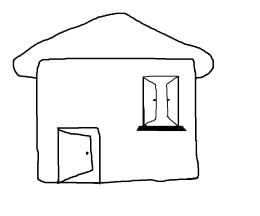door: (53, 121, 104, 189)
open_window: (134, 70, 188, 131)
roof: (12, 12, 214, 78)
wall: (34, 54, 199, 187)
